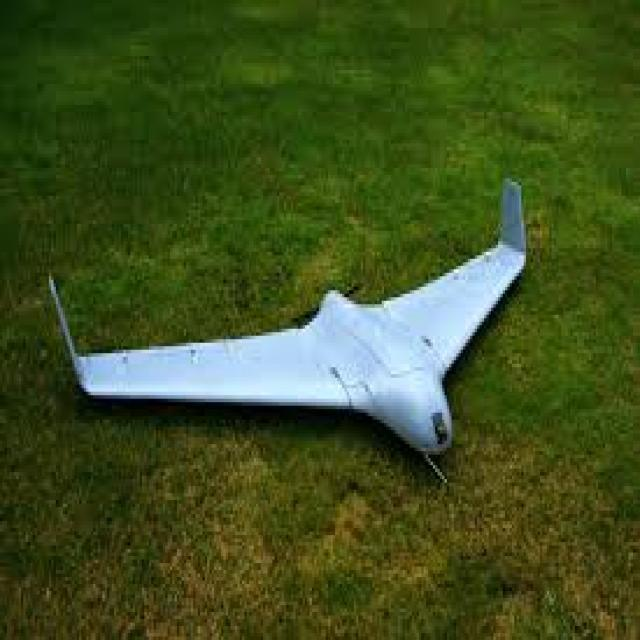iha: (45, 207, 593, 467)
